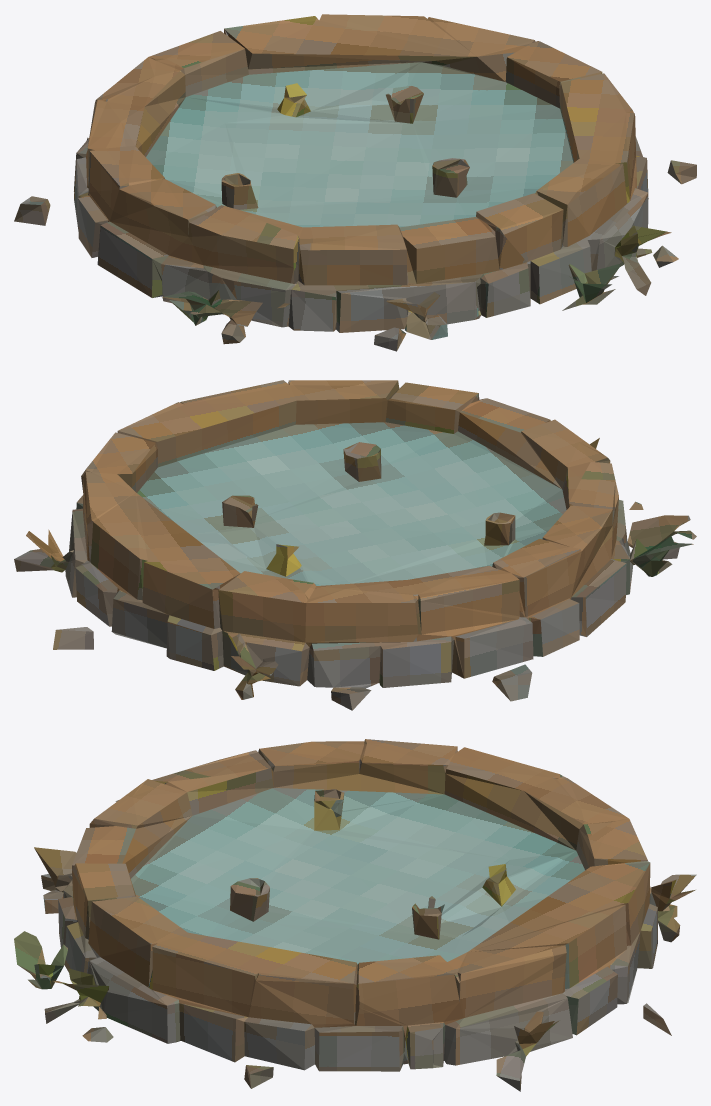
The model's file is spa.glb.
The picture shows the model from 3 angles, top to bottom: view 1: azimuth 30°, elevation 25°; view 2: azimuth 150°, elevation 25°; view 3: azimuth 270°, elevation 25°; orthographic projection. The views are drawn at different scales.
Visible parts, largest first — view 1: geometry_0; view 2: geometry_0; view 3: geometry_0.
Part boxes in pixels (x1,y1,x2,y2): geometry_0: [14, 14, 696, 351]; geometry_0: [14, 380, 696, 710]; geometry_0: [14, 739, 696, 1091].
Bounding box in the file's own units: 0.9746 × 0.1622 × 0.9822.
1 material, 1 textured.
